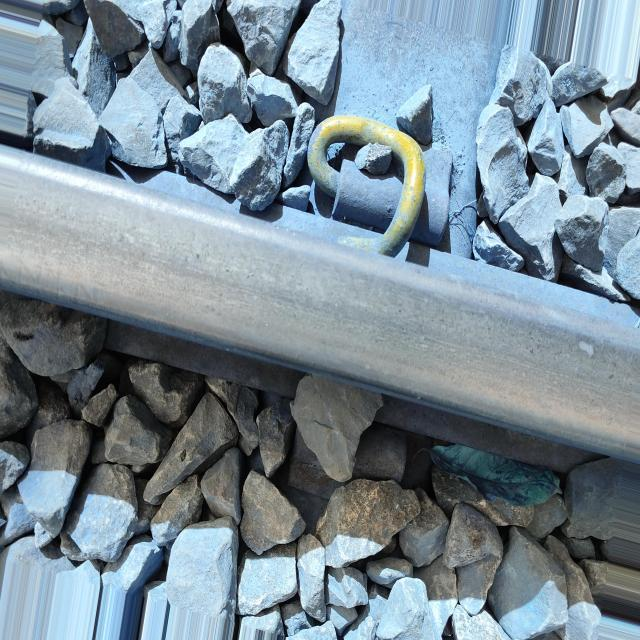Good Fasteners: (307, 116, 452, 257)
